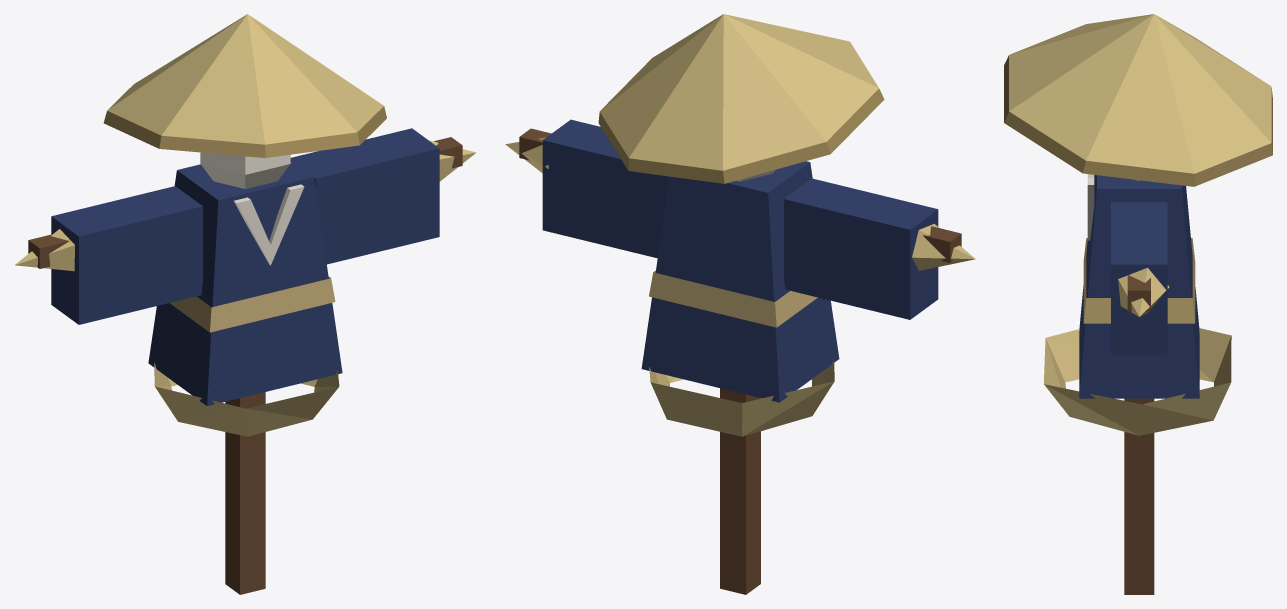
File: scarecrow.fbx
The picture shows the model from 3 angles, left to right: view 1: azimuth 30°, elevation 25°; view 2: azimuth 150°, elevation 25°; view 3: azimuth 270°, elevation 25°; orthographic projection. The views are drawn at different scales.
Visible parts, largest first — view 1: scarecrow; view 2: scarecrow; view 3: scarecrow.
Part boxes in pixels (x1=…): scarecrow: x1=15, y1=14, x2=476, y2=594; scarecrow: x1=505, y1=14, x2=975, y2=594; scarecrow: x1=1004, y1=14, x2=1272, y2=594.
Size of the model in its own units: 1.64 by 1.92 by 0.8051.
